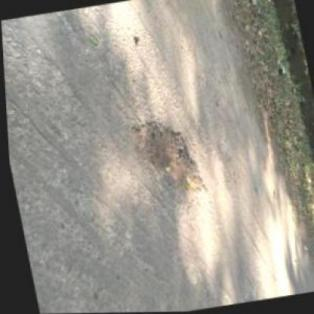Hueco: (125, 112, 209, 211)
